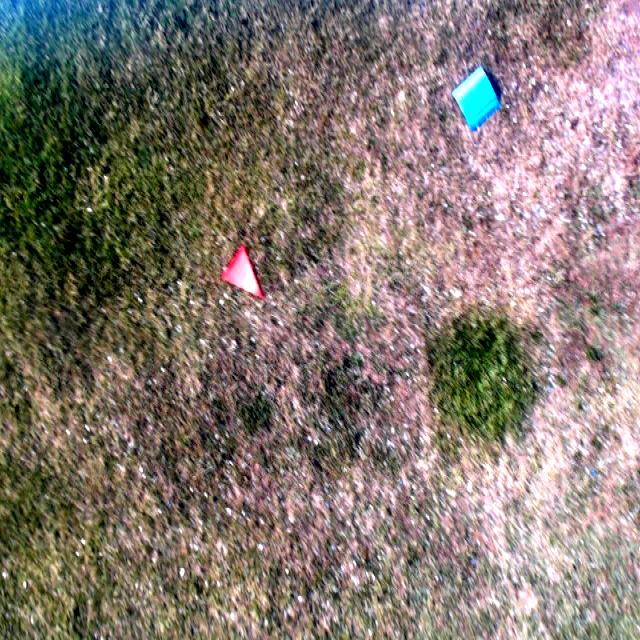blue_square: (450, 64, 502, 132)
red_triangle: (221, 244, 266, 301)
